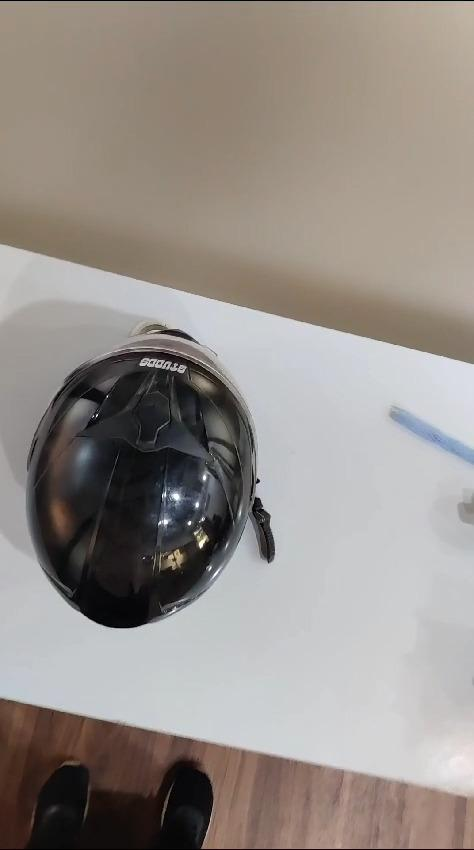Helmet: (24, 316, 255, 636)
